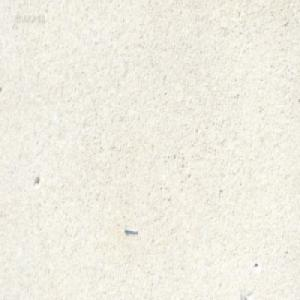Nail: (123, 224, 138, 234)
